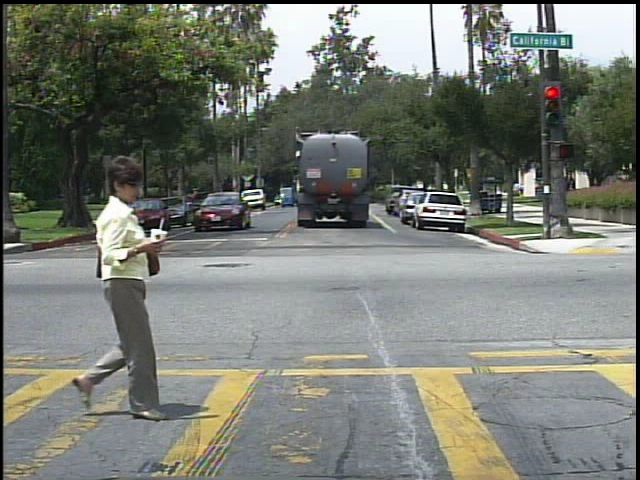person: (55, 152, 175, 425), (564, 172, 582, 204), (517, 180, 530, 200)
